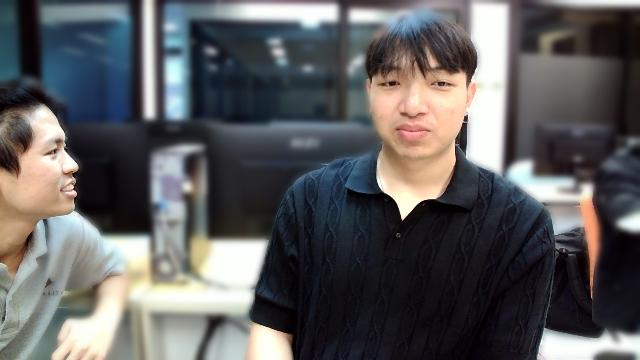fokus: (365, 23, 476, 162)
